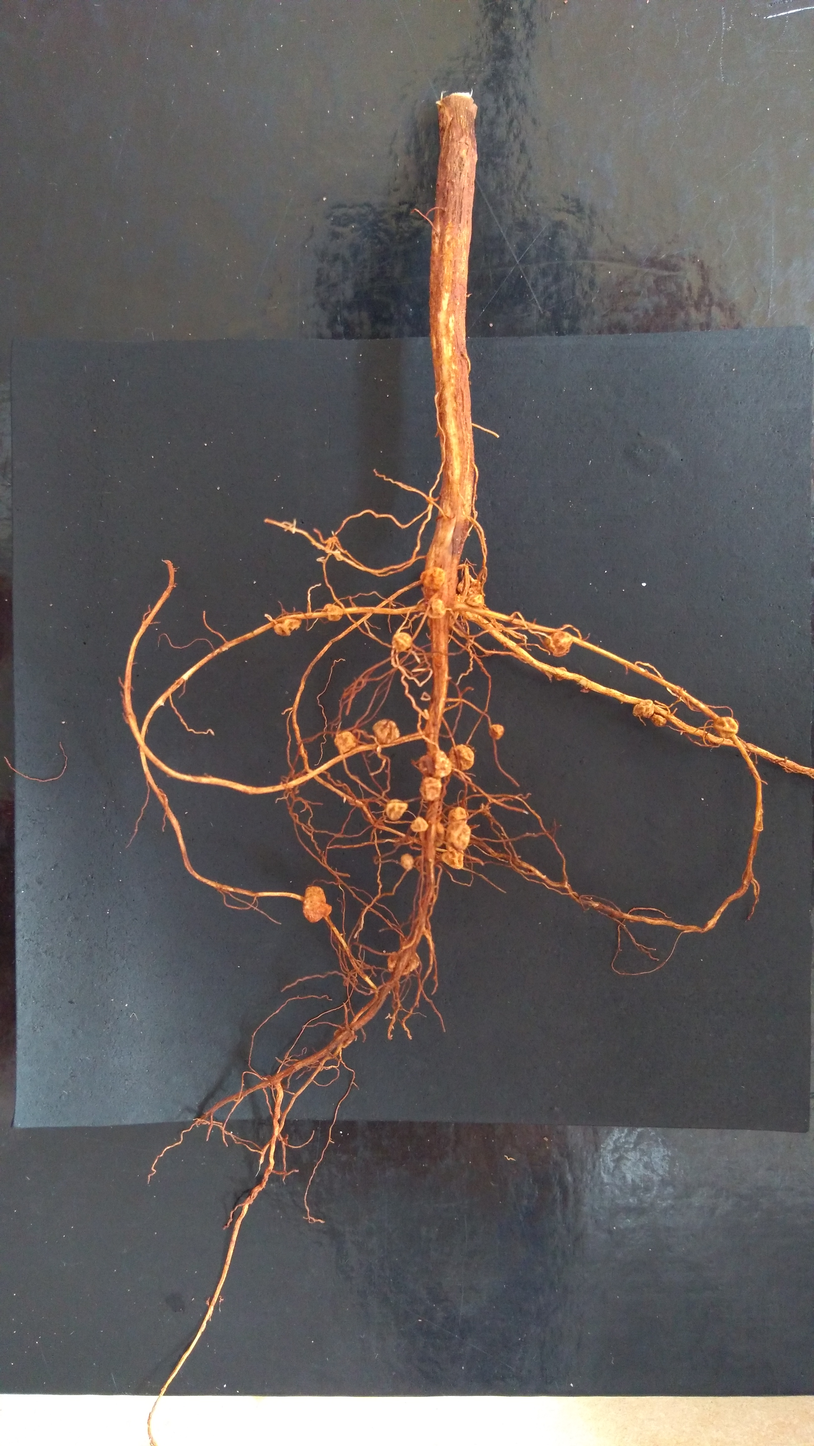nodule: (301, 884, 334, 924), (540, 629, 575, 659), (423, 747, 454, 780), (386, 947, 421, 976), (445, 742, 476, 773), (371, 717, 402, 747), (445, 820, 471, 851), (417, 774, 444, 802), (711, 714, 740, 740), (418, 566, 446, 592), (332, 729, 358, 757), (332, 1024, 358, 1051), (272, 616, 303, 638), (389, 630, 414, 654), (384, 798, 409, 822), (424, 598, 448, 622), (440, 848, 466, 870), (320, 602, 345, 623), (632, 697, 655, 719), (455, 577, 482, 594), (447, 806, 469, 825), (409, 815, 430, 834), (464, 592, 486, 609), (487, 722, 506, 741), (399, 852, 415, 873), (434, 821, 445, 849), (649, 712, 667, 728), (553, 666, 569, 682), (579, 687, 591, 694)
